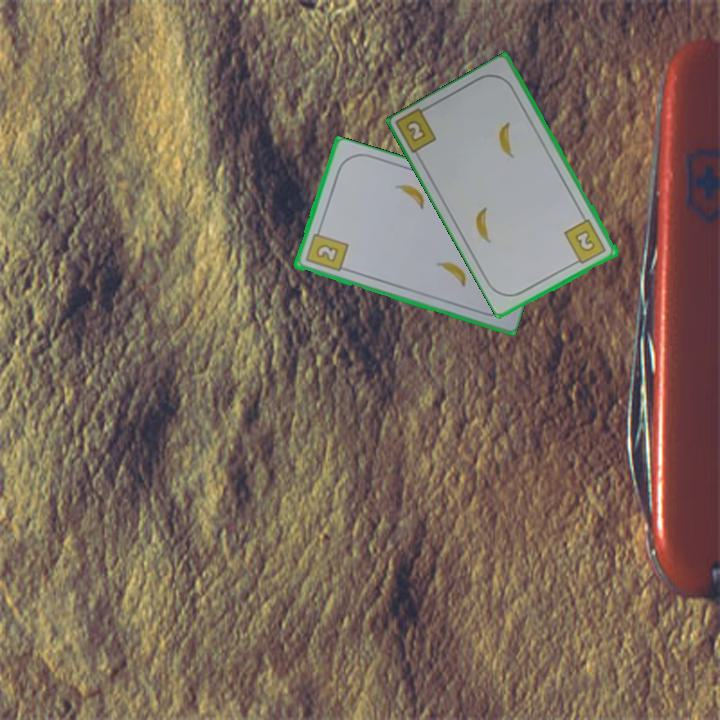2b: (561, 216, 609, 268), (302, 225, 350, 274), (404, 119, 426, 143)
